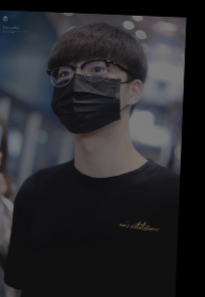with_mask: (50, 52, 134, 134)
